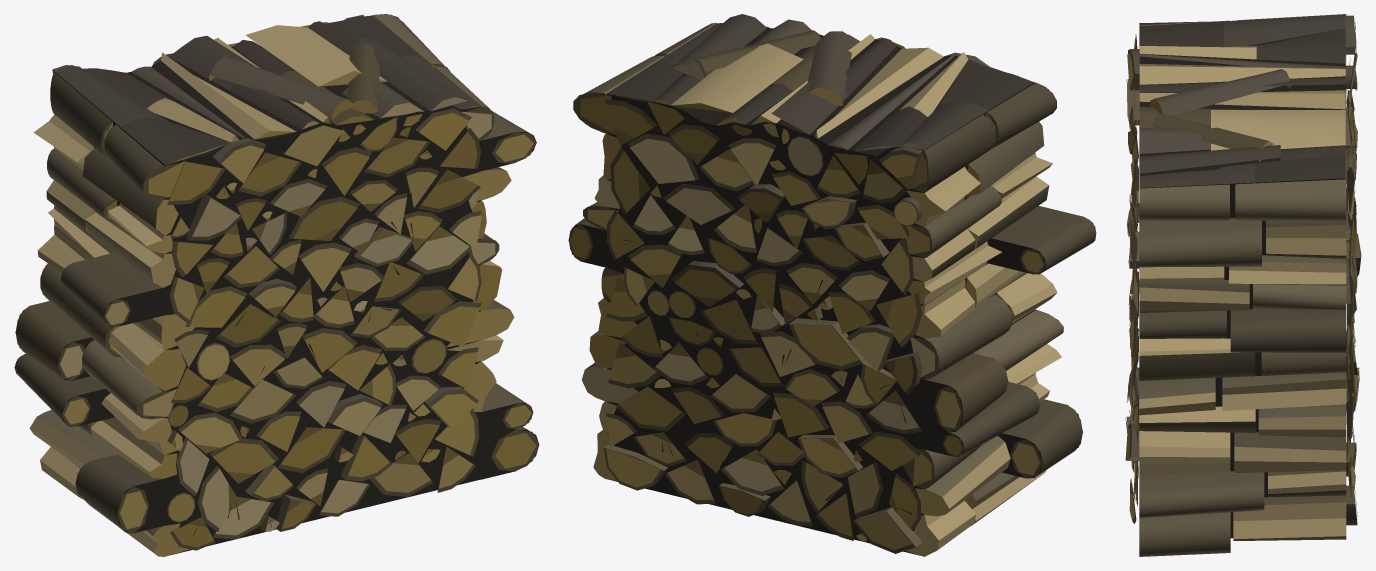
File: cordwood_single.glb
3 views of the same model, side by side, from view 1: azimuth 30°, elevation 25°; view 2: azimuth 150°, elevation 25°; view 3: azimuth 270°, elevation 25° (orthographic). The views are drawn at different scales.
Parts seen in each view (by area): view 1: Cordwood; view 2: Cordwood; view 3: Cordwood.
Boxes of the visible parts, <box> form: Cordwood: <box>14,14,539,556</box>; Cordwood: <box>568,14,1096,556</box>; Cordwood: <box>1125,14,1361,556</box>.
Size of the model in its own units: 2 by 1.8 by 1.
